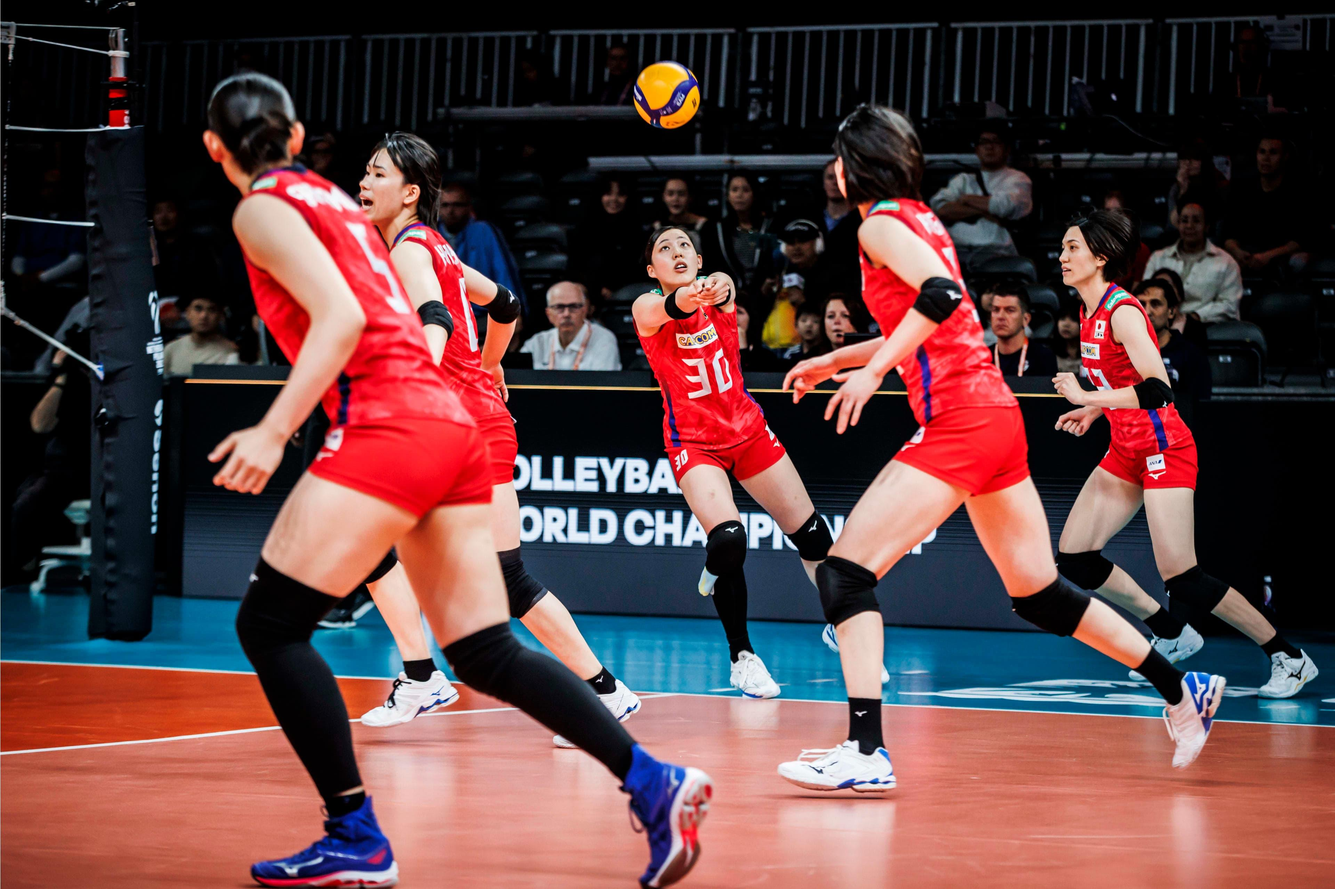ballon_volley: (633, 59, 701, 130)
